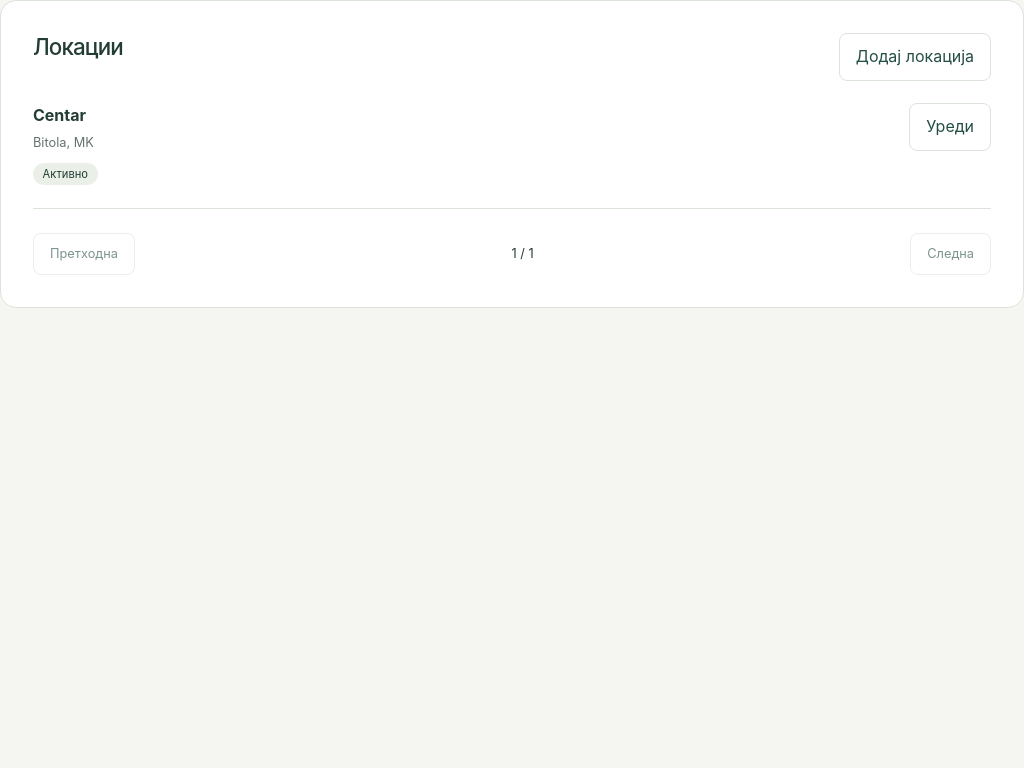
Test: renders locations and server validation on create without discarding form input
Expected: the heading "Centar" is shown, [33,105,86,125]
Click the button "Додај локација" at (915, 57), box [839,33,991,81]
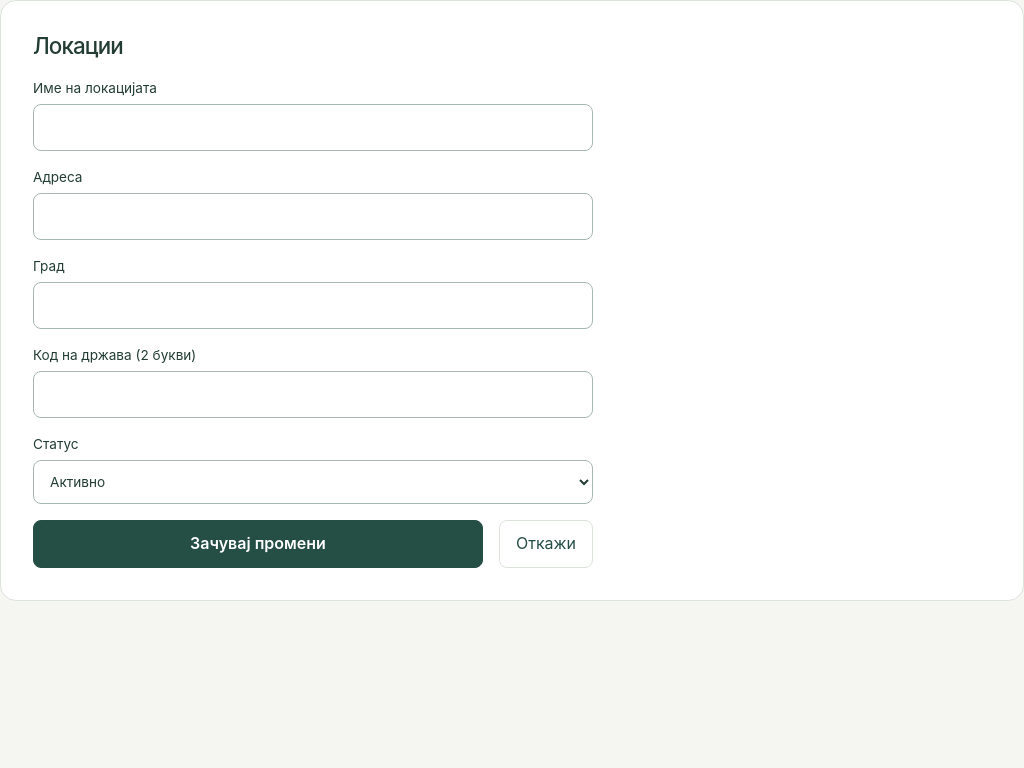
Type "New branch" into the field labelled "Име на локацијата" at (313, 128), box [33,104,593,151]
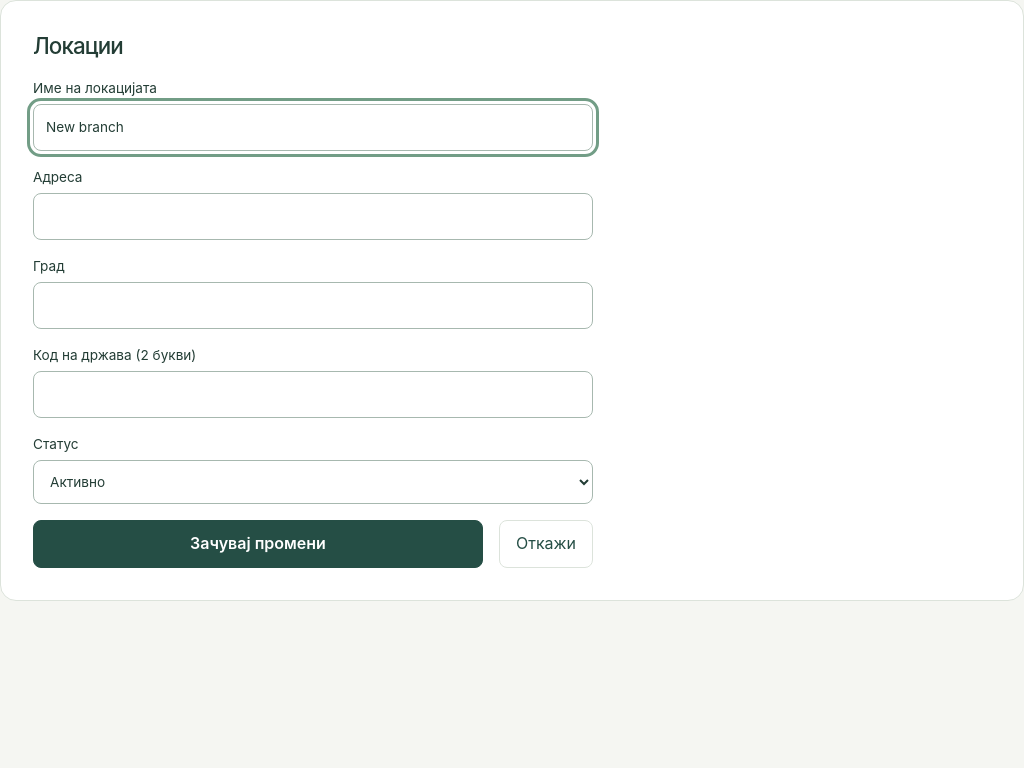
Click the button "Зачувај промени" at (258, 544), box [33,520,483,568]
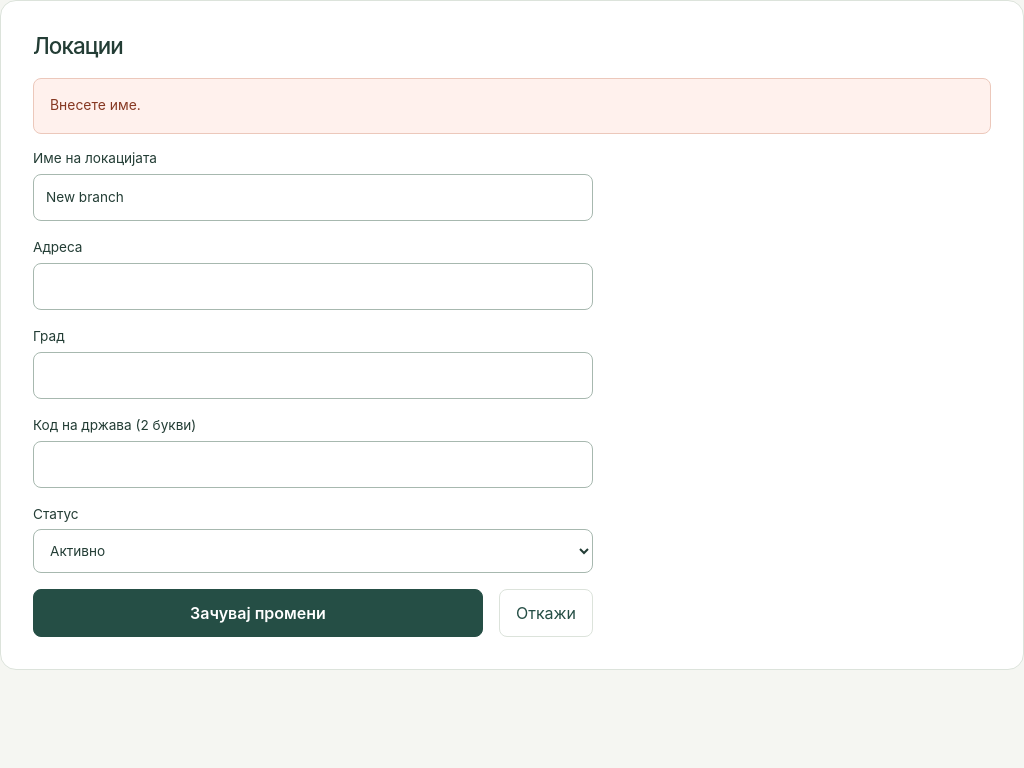
Expected: the message reads "Внесете име.", [50,98,141,114]
